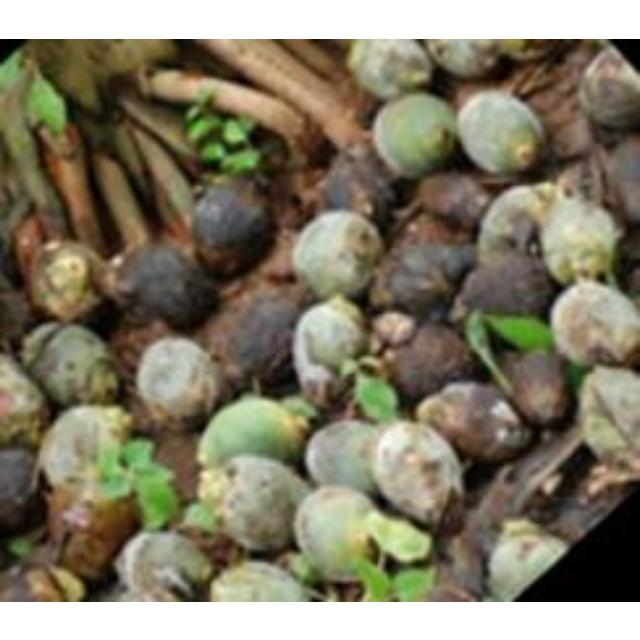damaged: (197, 38, 377, 154), (516, 436, 628, 544), (200, 453, 310, 552), (121, 114, 203, 240), (292, 482, 394, 582), (45, 475, 141, 581), (371, 420, 465, 528), (416, 378, 532, 464), (210, 288, 308, 389), (113, 243, 219, 329), (291, 296, 373, 406), (132, 336, 224, 430), (191, 175, 277, 275), (197, 395, 311, 469), (23, 322, 121, 408), (290, 209, 382, 299), (37, 404, 133, 490), (548, 278, 638, 368), (374, 238, 472, 320), (379, 322, 473, 404), (372, 92, 460, 178), (26, 238, 116, 322), (540, 192, 622, 284), (456, 90, 544, 174), (185, 90, 269, 176), (454, 248, 550, 320), (304, 418, 388, 498), (117, 530, 211, 600), (29, 38, 119, 110), (91, 146, 152, 252), (318, 146, 398, 226), (486, 520, 564, 602), (462, 461, 532, 552), (578, 364, 640, 466), (476, 183, 554, 259), (498, 348, 568, 430), (346, 38, 432, 100), (578, 46, 640, 130), (414, 170, 492, 233), (108, 316, 182, 380), (464, 309, 514, 401), (0, 352, 48, 446), (209, 561, 313, 601), (150, 428, 206, 502), (0, 444, 46, 532), (268, 39, 352, 87), (540, 94, 596, 164), (432, 527, 486, 599), (144, 66, 234, 108), (598, 138, 640, 225), (89, 39, 175, 81), (503, 46, 569, 100), (474, 309, 554, 353), (72, 95, 126, 157), (563, 144, 611, 213), (426, 40, 506, 80), (181, 523, 245, 571), (8, 560, 84, 600), (1, 173, 40, 249), (12, 211, 52, 285), (24, 69, 68, 135), (132, 468, 180, 528), (450, 74, 512, 116), (5, 538, 65, 580), (1, 284, 36, 348), (20, 320, 64, 370), (422, 240, 473, 280), (196, 464, 234, 516), (126, 398, 170, 442), (184, 100, 226, 146), (0, 226, 26, 294), (492, 38, 558, 64), (371, 309, 417, 346), (182, 502, 218, 536), (528, 180, 562, 214), (288, 279, 322, 313), (0, 49, 26, 92)
